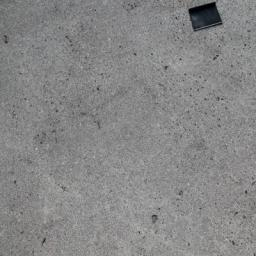FOD: (186, 1, 226, 33)
